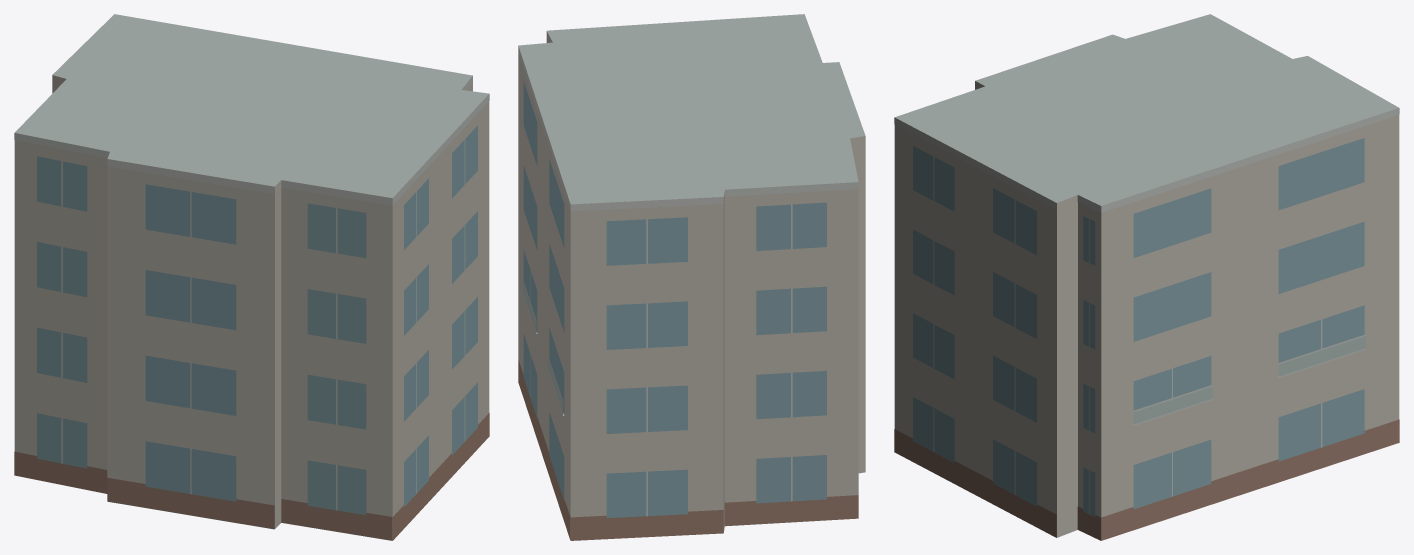
Rendered from survey-upis-32735999.glb.
The picture shows the model from 3 angles, left to right: view 1: azimuth 30°, elevation 25°; view 2: azimuth 150°, elevation 25°; view 3: azimuth 270°, elevation 25°; orthographic projection. The views are drawn at different scales.
Visible parts, largest first — view 1: survey-upis-32735999.tmp; view 2: survey-upis-32735999.tmp; view 3: survey-upis-32735999.tmp.
Part boxes in pixels (x1,y1,x2,y2): survey-upis-32735999.tmp: [14, 14, 489, 540]; survey-upis-32735999.tmp: [518, 14, 865, 540]; survey-upis-32735999.tmp: [894, 14, 1399, 540].
Bounding box in the file's own units: 14.39 × 11.7 × 15.99.
